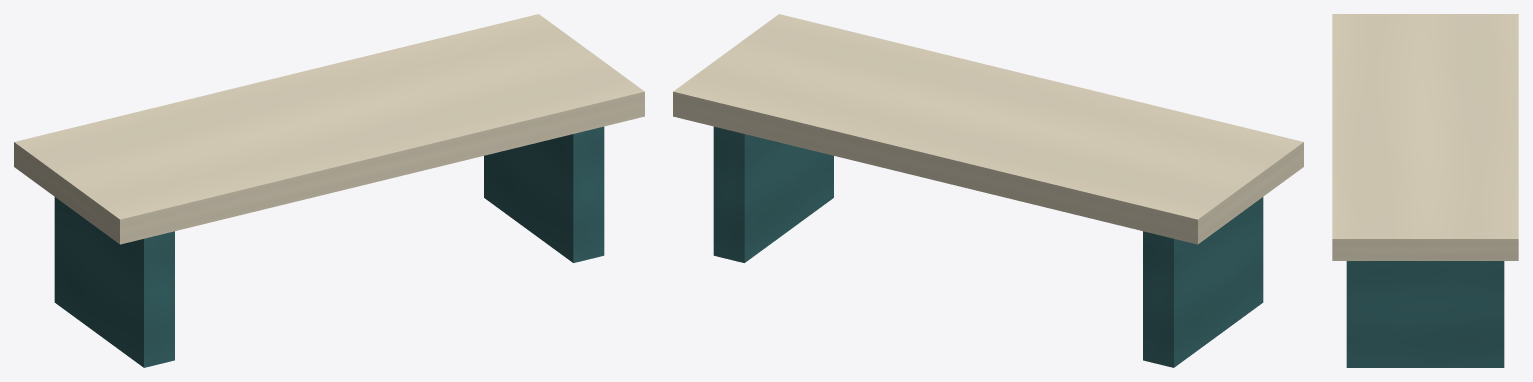
The model's file is atlas100-porcelain-util03.lod2.glb.
3 views of the same model, side by side, from view 1: azimuth 30°, elevation 25°; view 2: azimuth 150°, elevation 25°; view 3: azimuth 270°, elevation 25° (orthographic). The views are drawn at different scales.
Visible parts, largest first — view 1: atlas100-porcelain-util03:part-002, atlas100-porcelain-util03:part-000, atlas100-porcelain-util03:part-001; view 2: atlas100-porcelain-util03:part-002, atlas100-porcelain-util03:part-000, atlas100-porcelain-util03:part-001; view 3: atlas100-porcelain-util03:part-002, atlas100-porcelain-util03:part-001.
Boxes of the visible parts, x1,y1,x2,y2 form: atlas100-porcelain-util03:part-002: (14,14,644,244); atlas100-porcelain-util03:part-000: (54,197,174,367); atlas100-porcelain-util03:part-001: (484,126,604,262); atlas100-porcelain-util03:part-002: (673,14,1303,244); atlas100-porcelain-util03:part-000: (1143,197,1263,367); atlas100-porcelain-util03:part-001: (713,126,833,262); atlas100-porcelain-util03:part-002: (1332,14,1518,260); atlas100-porcelain-util03:part-001: (1346,261,1504,367).
Size of the model in its own units: 2.2 by 0.65 by 0.77.
2 materials, 2 textured.
